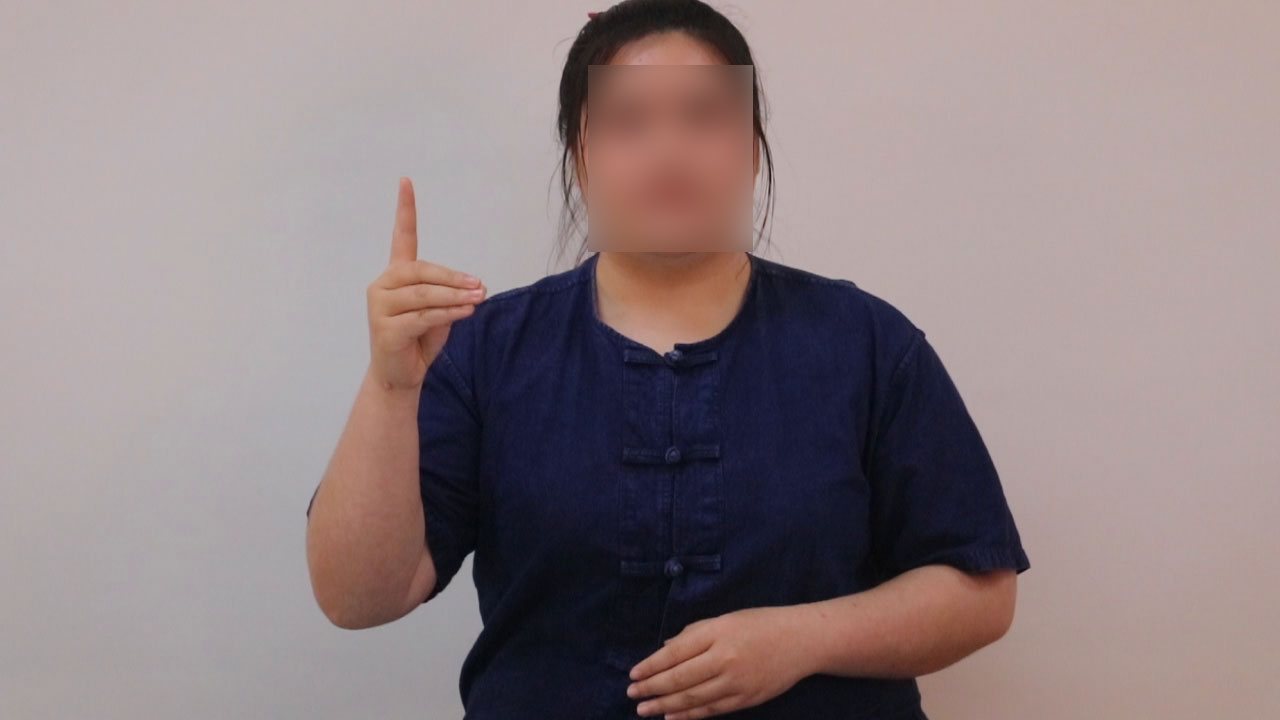dor: (357, 164, 494, 397)
